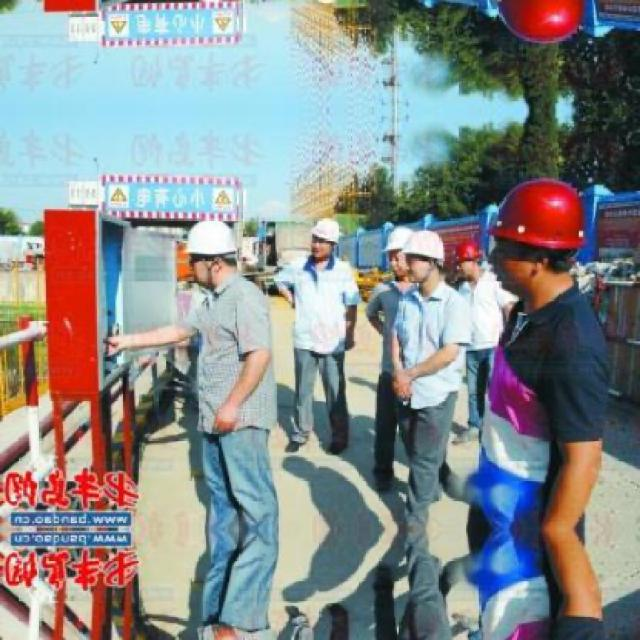helmet: (488, 174, 584, 289), (488, 0, 586, 46), (188, 217, 240, 283), (402, 228, 446, 284), (452, 239, 488, 283), (383, 225, 412, 277), (310, 214, 338, 258)
